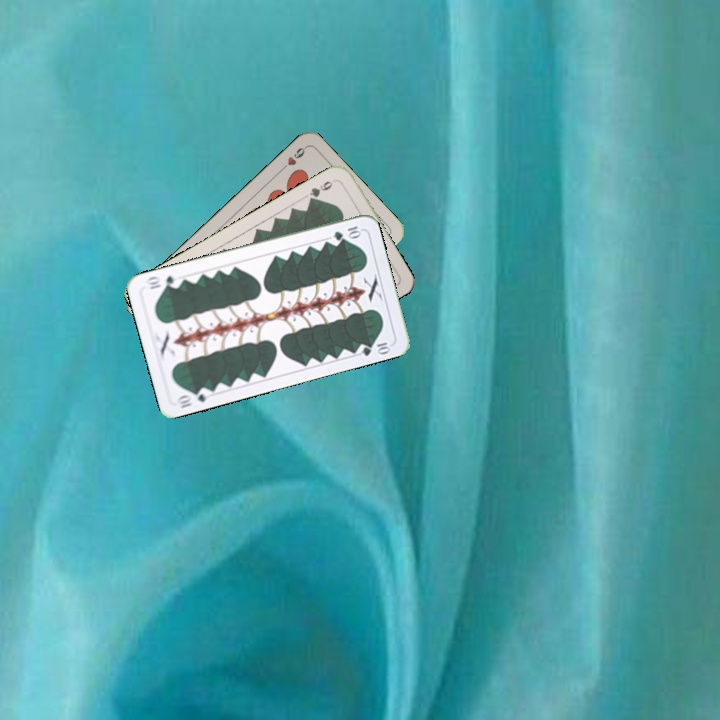G10: (172, 384, 213, 411), (329, 222, 364, 243)
G9: (305, 175, 339, 205)
H9: (276, 143, 309, 174)
